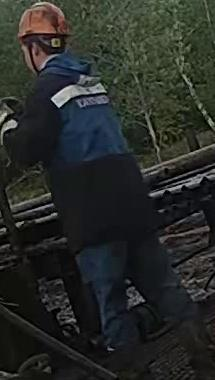helmet: (17, 1, 72, 48)
vest: (31, 56, 157, 252)
